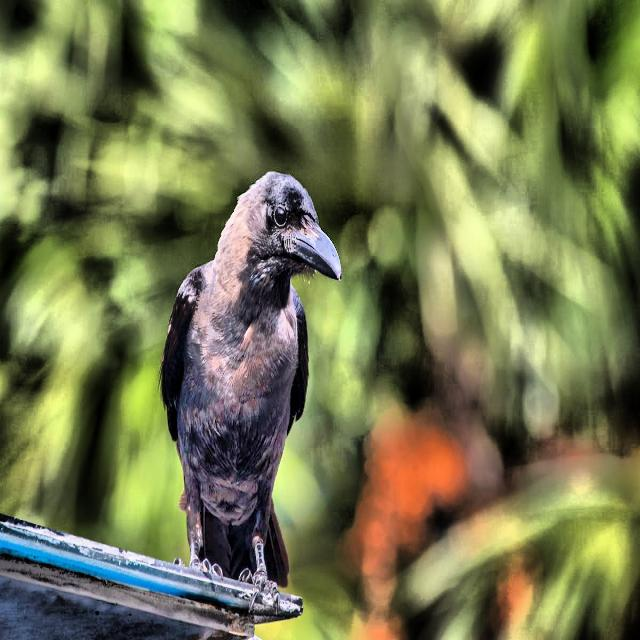crow: (149, 170, 349, 612)
